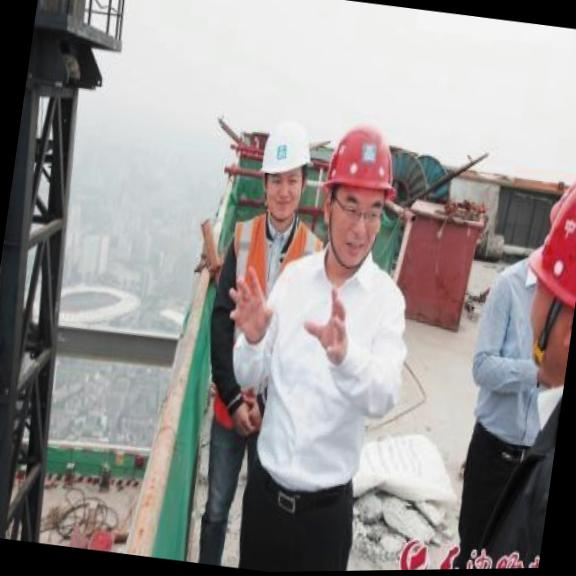no_safety_vest: (246, 241, 421, 497), (198, 208, 325, 437), (451, 352, 567, 569)
